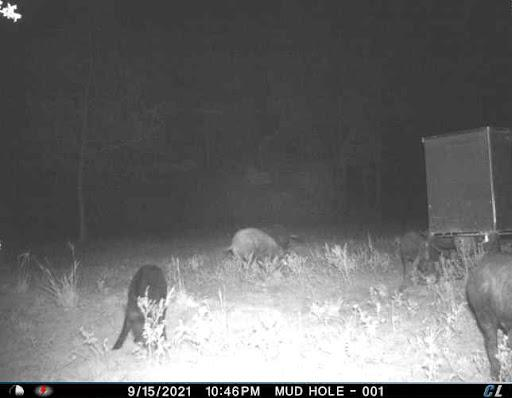Hog: (460, 245, 512, 383), (124, 258, 174, 340), (226, 221, 286, 270)
